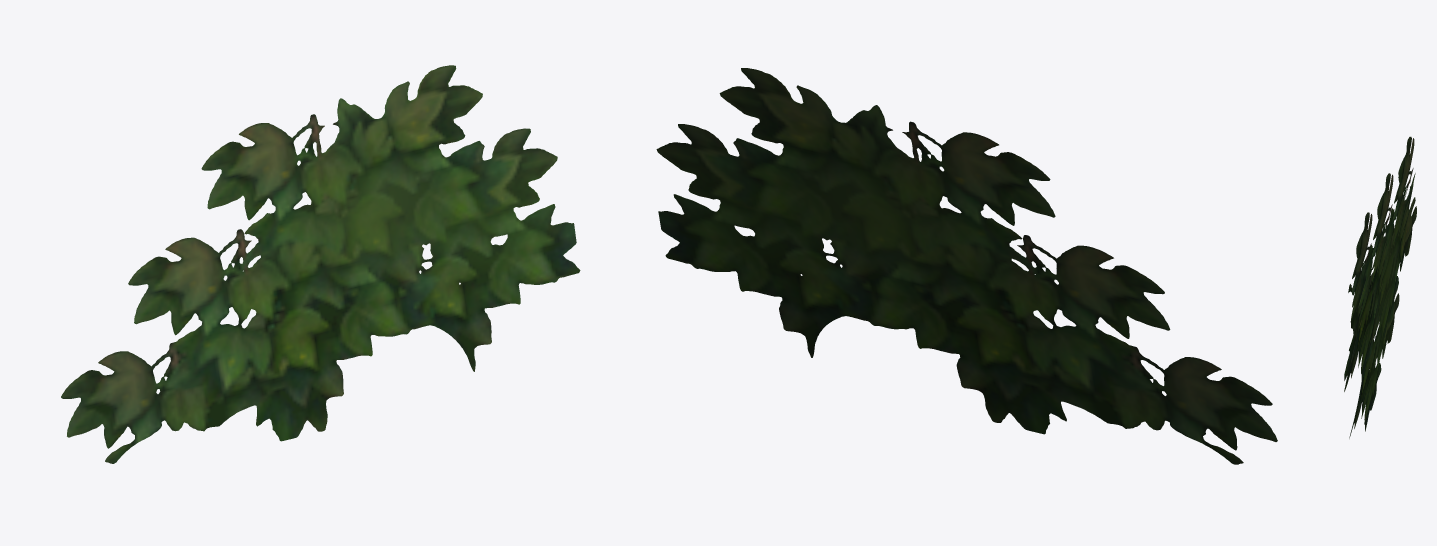
Rendered from zc_erhai_guanmu04.FBX.
3 views of the same model, side by side, from view 1: azimuth 30°, elevation 25°; view 2: azimuth 150°, elevation 25°; view 3: azimuth 270°, elevation 25° (orthographic). The views are drawn at different scales.
Visible parts, largest first — view 1: zc_erhai_guanmu04; view 2: zc_erhai_guanmu04; view 3: zc_erhai_guanmu04.
Boxes of the visible parts, box(x1,y1,x2,y2) form: zc_erhai_guanmu04: box(61, 65, 580, 463); zc_erhai_guanmu04: box(656, 68, 1277, 464); zc_erhai_guanmu04: box(1344, 136, 1416, 438).
Bounding box in the file's own units: 293 × 185 × 48.81.
